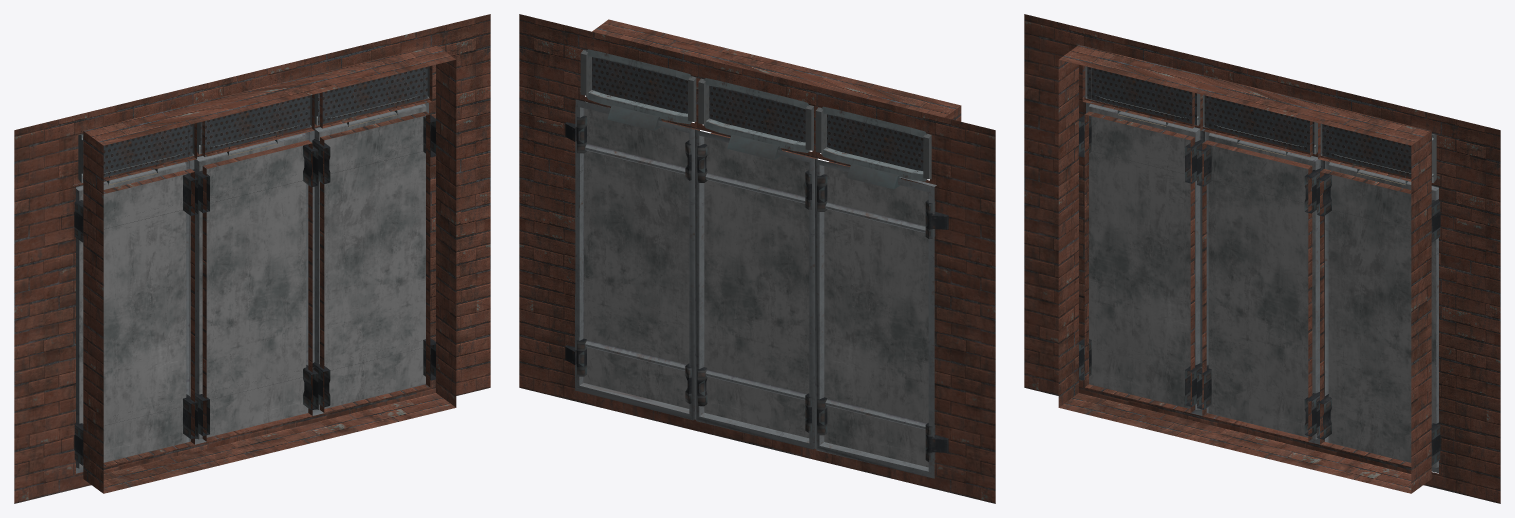
File: ARC0910020.fbx
The picture shows the model from 3 angles, left to right: view 1: azimuth 30°, elevation 25°; view 2: azimuth 150°, elevation 25°; view 3: azimuth 330°, elevation 25°; orthographic projection.
Parts seen in each view (by area): view 1: smARC0910020; view 2: smARC0910020; view 3: smARC0910020.
Boxes of the visible parts, left/top/right/bottom form: smARC0910020: left=14, top=14, right=490, bottom=503; smARC0910020: left=519, top=14, right=995, bottom=503; smARC0910020: left=1024, top=14, right=1500, bottom=503.
Bounding box in the file's own units: 400 × 300 × 49.97.
Materials: 1 (1 with a texture image).
